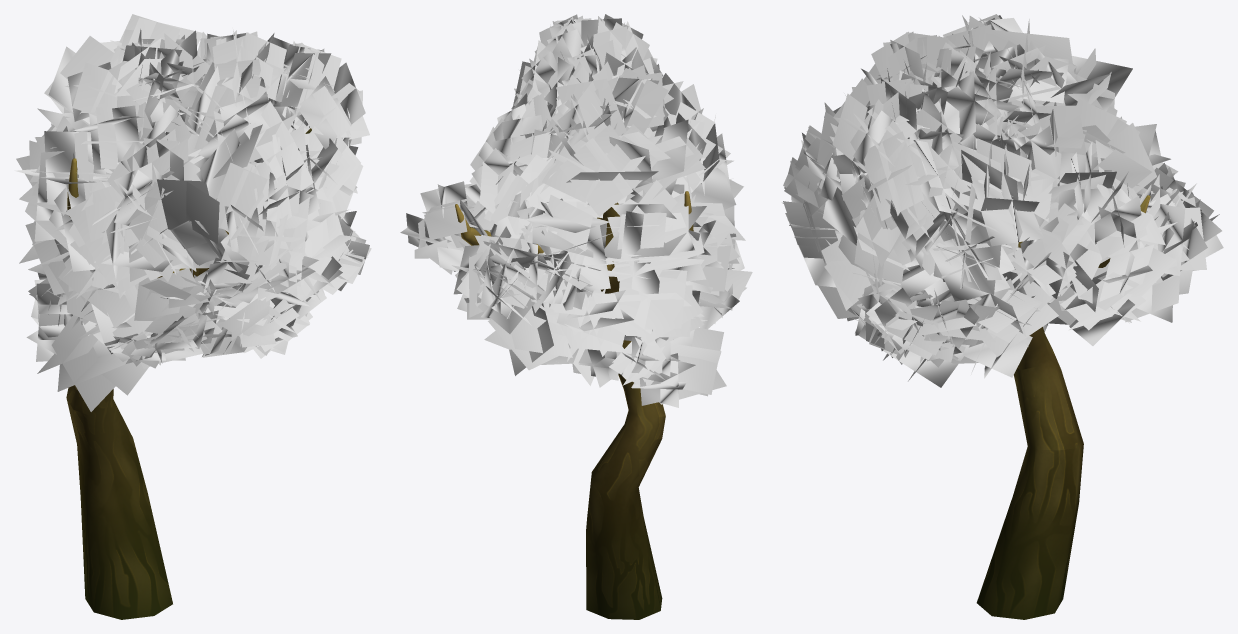
The model's file is 2_Arbol_LOD0.fbx.
The picture shows the model from 3 angles, left to right: view 1: azimuth 30°, elevation 25°; view 2: azimuth 150°, elevation 25°; view 3: azimuth 270°, elevation 25°; orthographic projection. The views are drawn at different scales.
Parts seen in each view (by area): view 1: 2_Arbol_LOD0; view 2: 2_Arbol_LOD0; view 3: 2_Arbol_LOD0.
Part boxes in pixels (box(x1,y1,x2,y2)): 2_Arbol_LOD0: box(14, 14, 371, 619); 2_Arbol_LOD0: box(400, 14, 752, 619); 2_Arbol_LOD0: box(782, 14, 1223, 619).
Size of the model in its own units: 443 by 860 by 573.
